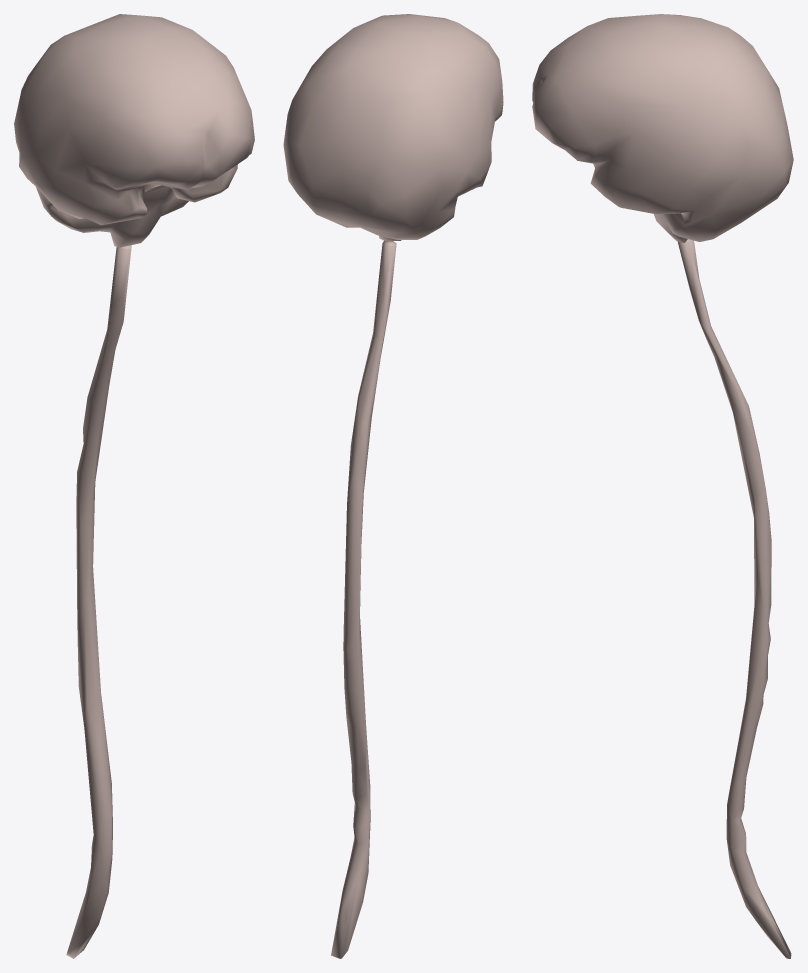
The model's file is pediatric_child_10y_male.nervous.LOD2.glb.
3 renders of one model, left to right at view 1: azimuth 30°, elevation 25°; view 2: azimuth 150°, elevation 25°; view 3: azimuth 270°, elevation 25°, orthographic. The views are drawn at different scales.
Parts seen in each view (by area): view 1: PEDIATRIC.CHILD_10Y.MALE.NERVOUS.BRAIN, PEDIATRIC.CHILD_10Y.MALE.NERVOUS.SPINAL_CORD; view 2: PEDIATRIC.CHILD_10Y.MALE.NERVOUS.BRAIN, PEDIATRIC.CHILD_10Y.MALE.NERVOUS.SPINAL_CORD; view 3: PEDIATRIC.CHILD_10Y.MALE.NERVOUS.BRAIN, PEDIATRIC.CHILD_10Y.MALE.NERVOUS.SPINAL_CORD.
Part boxes in pixels (x1,y1,x2,y2): PEDIATRIC.CHILD_10Y.MALE.NERVOUS.BRAIN: [14, 14, 254, 247]; PEDIATRIC.CHILD_10Y.MALE.NERVOUS.SPINAL_CORD: [66, 245, 131, 958]; PEDIATRIC.CHILD_10Y.MALE.NERVOUS.BRAIN: [283, 14, 503, 240]; PEDIATRIC.CHILD_10Y.MALE.NERVOUS.SPINAL_CORD: [331, 241, 396, 958]; PEDIATRIC.CHILD_10Y.MALE.NERVOUS.BRAIN: [532, 14, 793, 242]; PEDIATRIC.CHILD_10Y.MALE.NERVOUS.SPINAL_CORD: [678, 239, 791, 958].
Size of the model in its own units: 0.1327 by 0.6405 by 0.1626.
